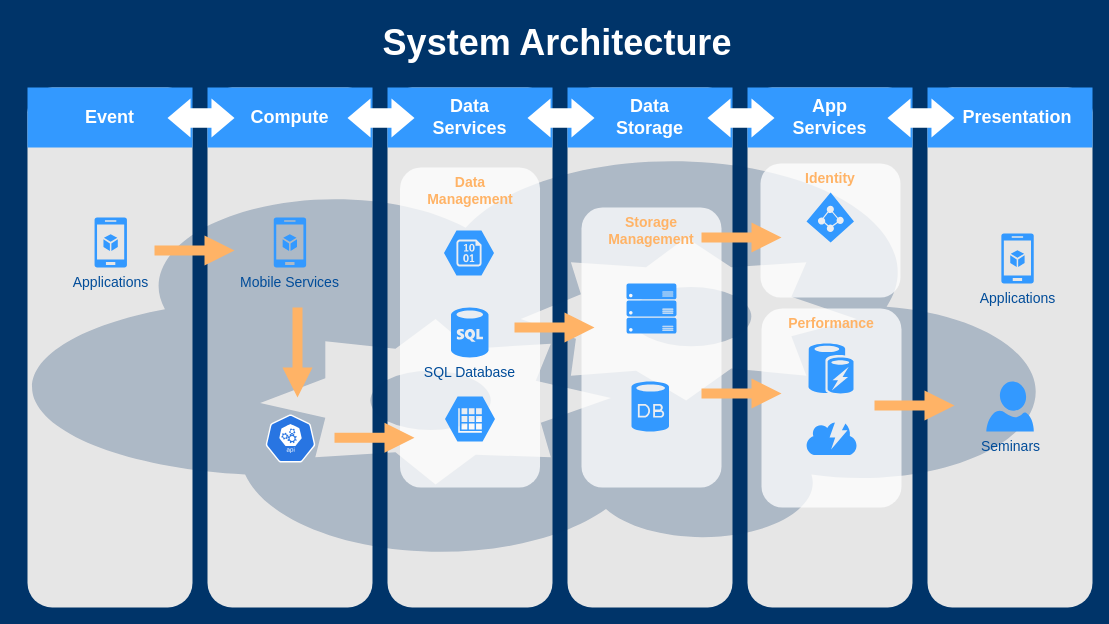
The diagram is 1109 pixels wide and 624 high, and some of its shapes have lost their labels. Here are the shapes that lost their labels. From the top down, the centre of each, then its label:
At point 830,217: "Windows Azure Active Directorry".
At point 469,252: "Blobs".
At point 651,308: "Storage Servers".
At point 830,368: "Caching".
At point 469,418: "Tables".
At point 649,406: "Database".
At point 831,438: "Content Delivery Network".
